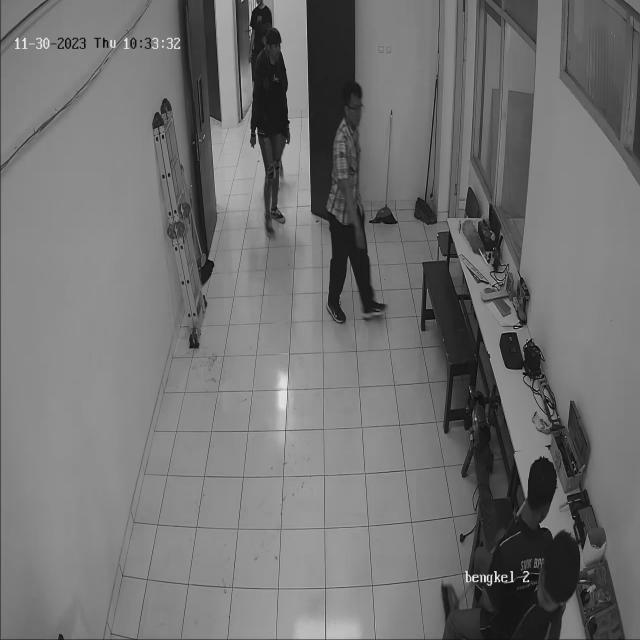person: (324, 79, 383, 323), (248, 9, 296, 227)
